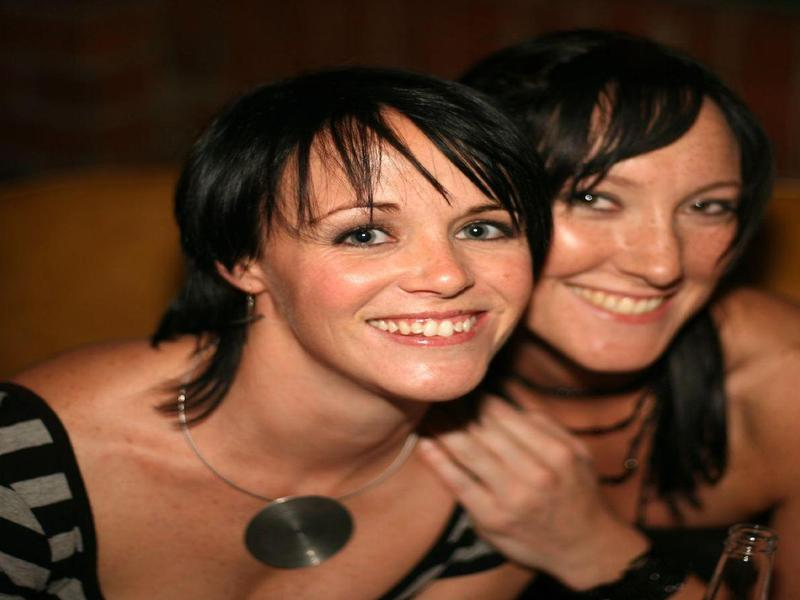person: (9, 58, 538, 600), (456, 30, 800, 599)
